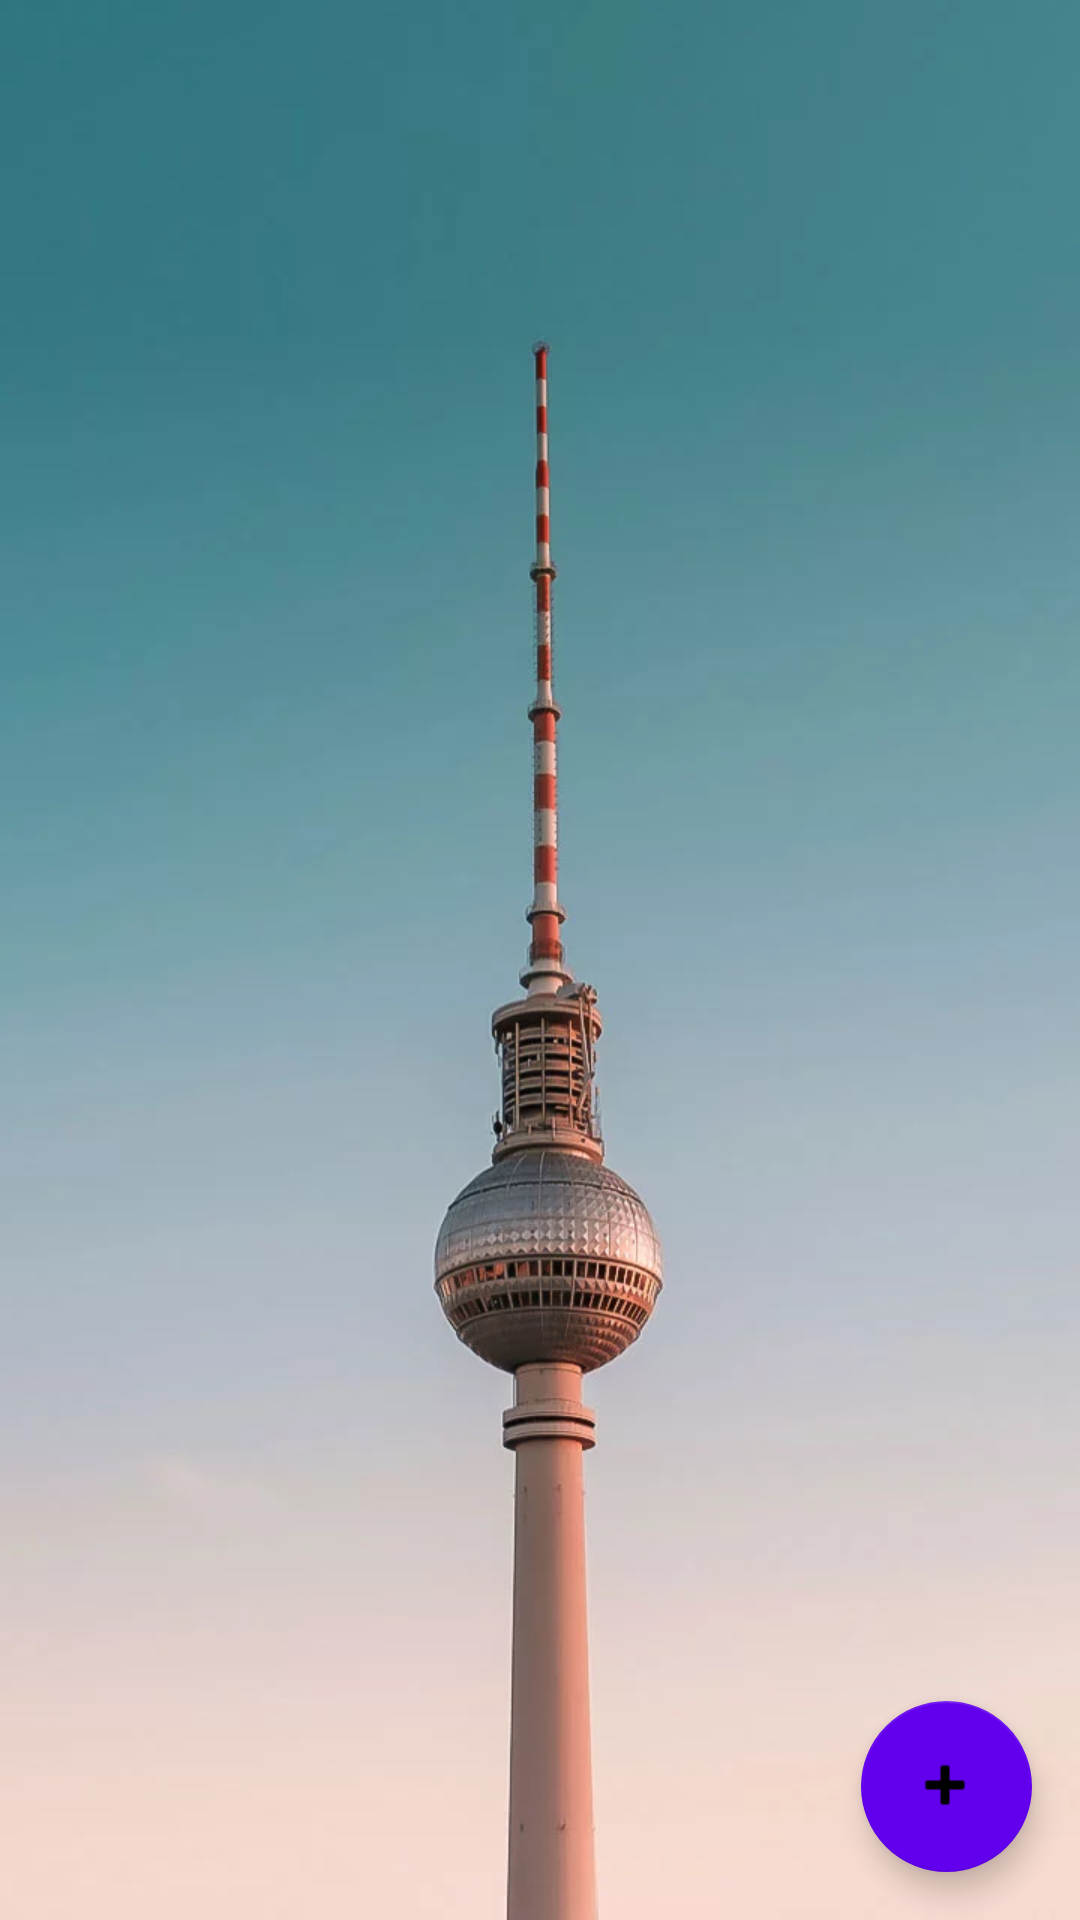

Where icons sit on this 1080*1920 app screen, as (x1, y1, x2, y2):
add: (861, 1701, 1032, 1872)
